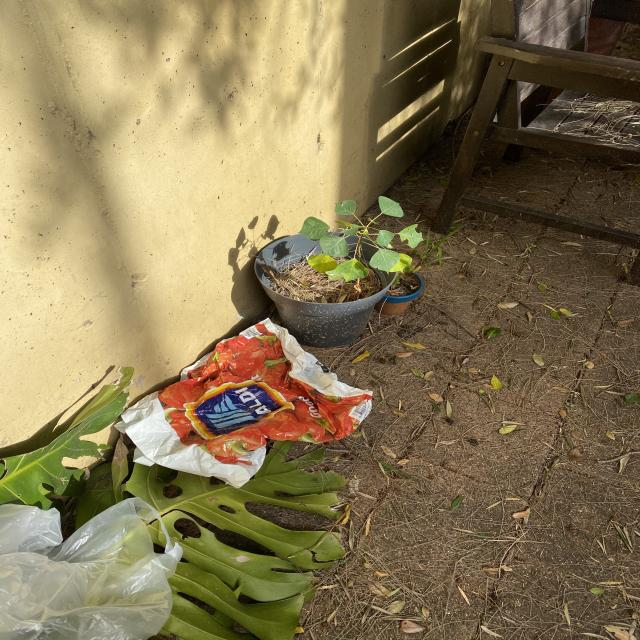bag: (112, 319, 375, 481), (0, 493, 190, 640)
container: (258, 233, 396, 344), (374, 271, 428, 327)
